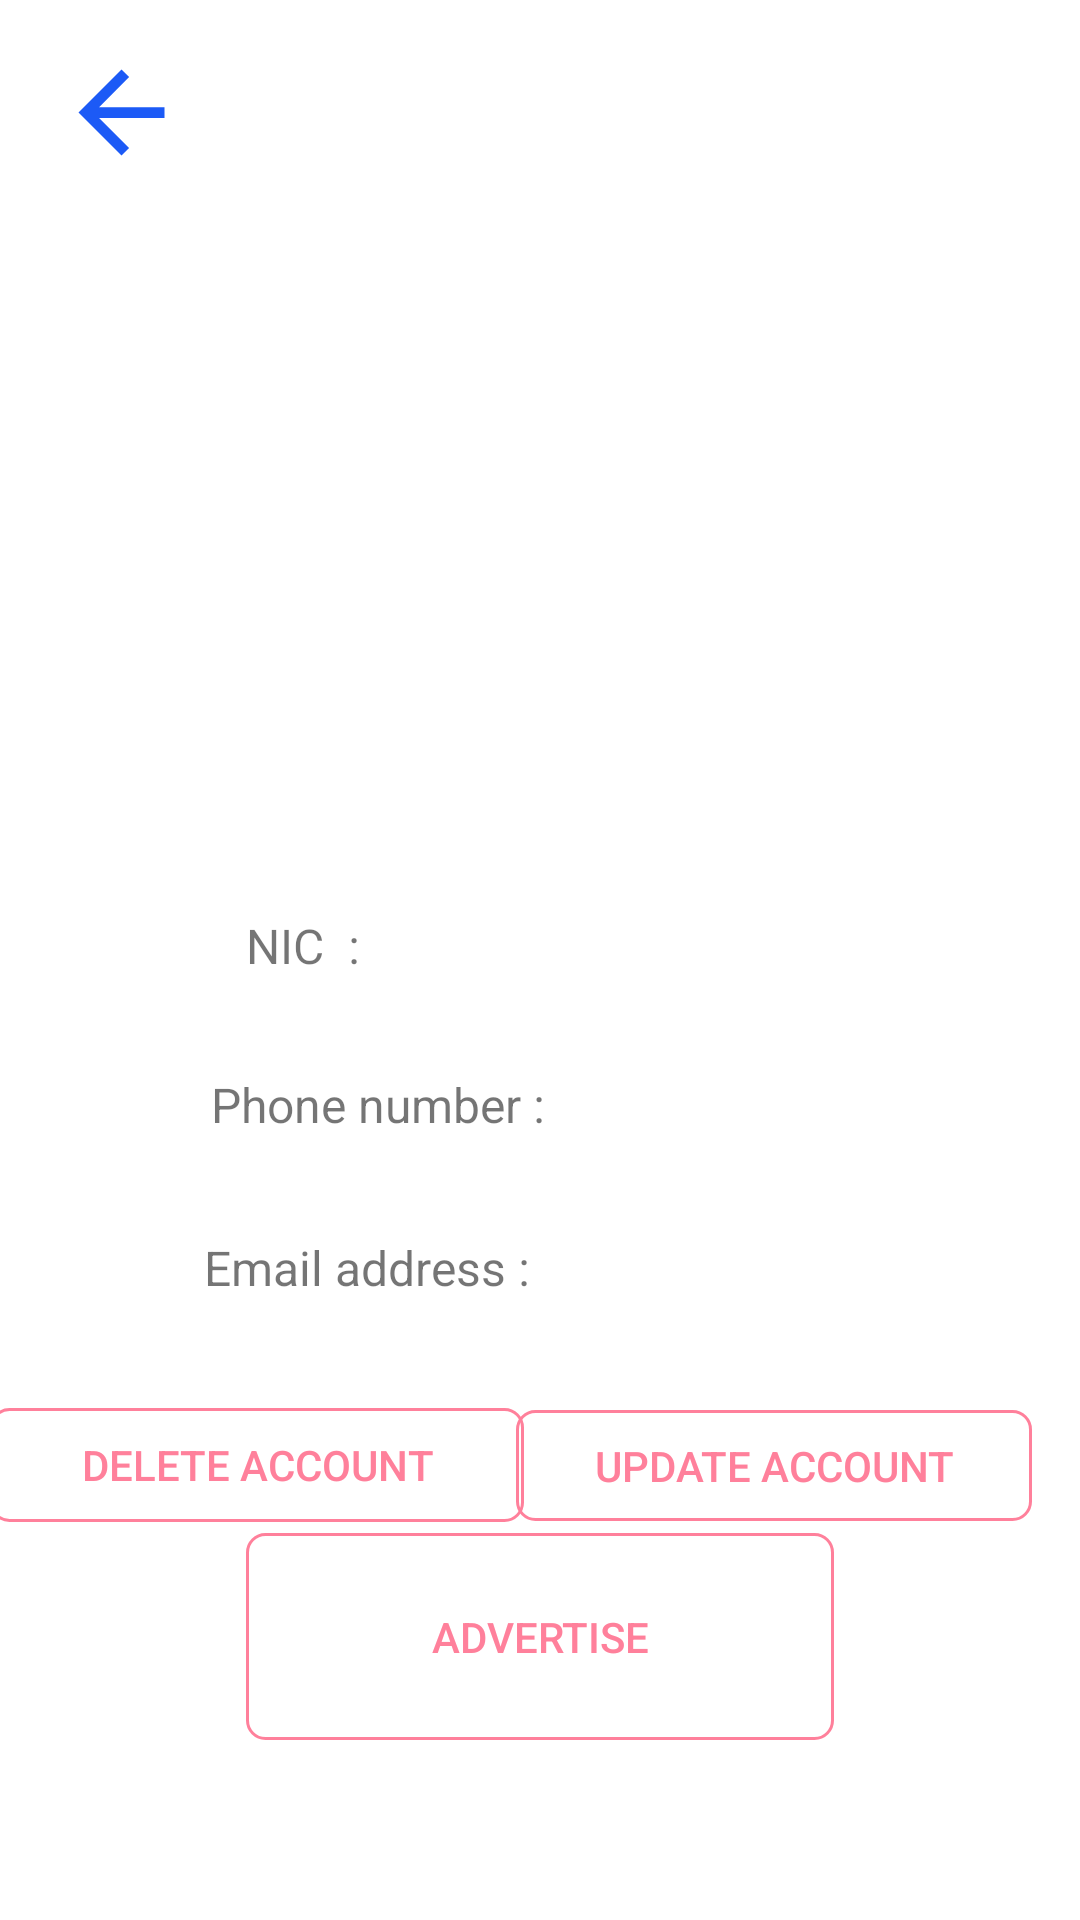

Named icons in this screenshot (1080x1920) and their bounding boxes, (x1, y1, x2, y2):
arrow back: (78, 69, 165, 156)
